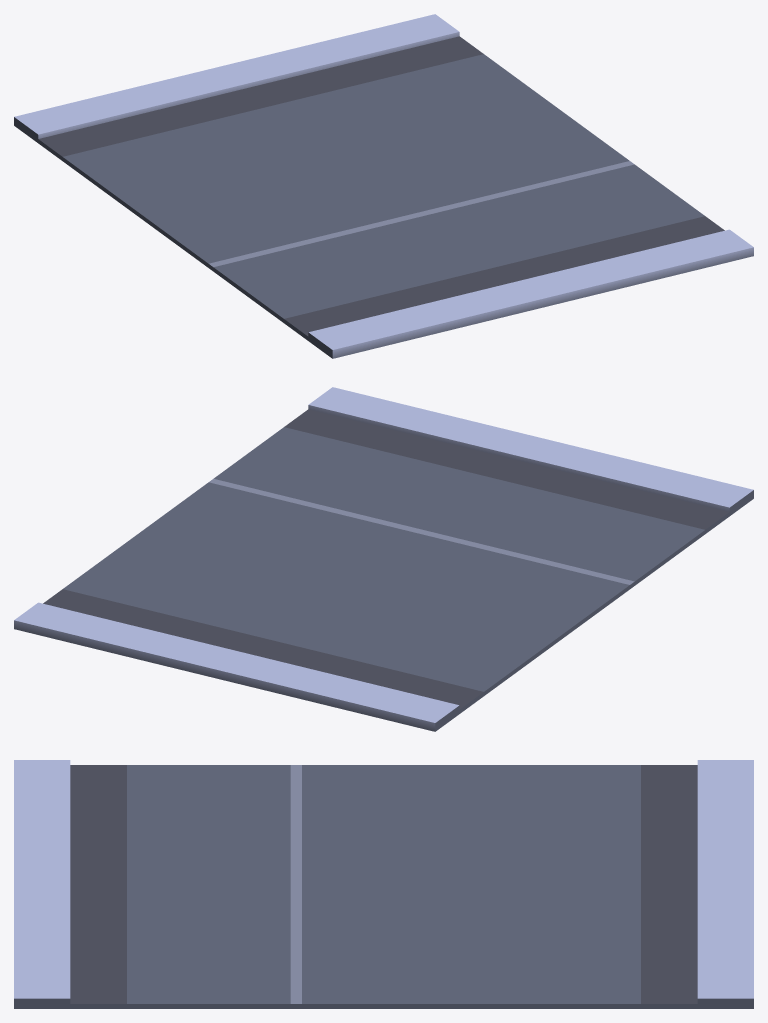
File: road-side.glb
The picture shows the model from 3 angles, top to bottom: view 1: azimuth 30°, elevation 25°; view 2: azimuth 150°, elevation 25°; view 3: azimuth 270°, elevation 25°; orthographic projection. The views are drawn at different scales.
Parts seen in each view (by area): view 1: road-side; view 2: road-side; view 3: road-side.
Boxes of the visible parts, bbox=[...] form: road-side: bbox=[14, 14, 753, 358]; road-side: bbox=[14, 387, 753, 731]; road-side: bbox=[14, 760, 753, 1008].
Size of the model in its own units: 1 by 0.02 by 1.31.
Materials: 1 (1 with a texture image).
